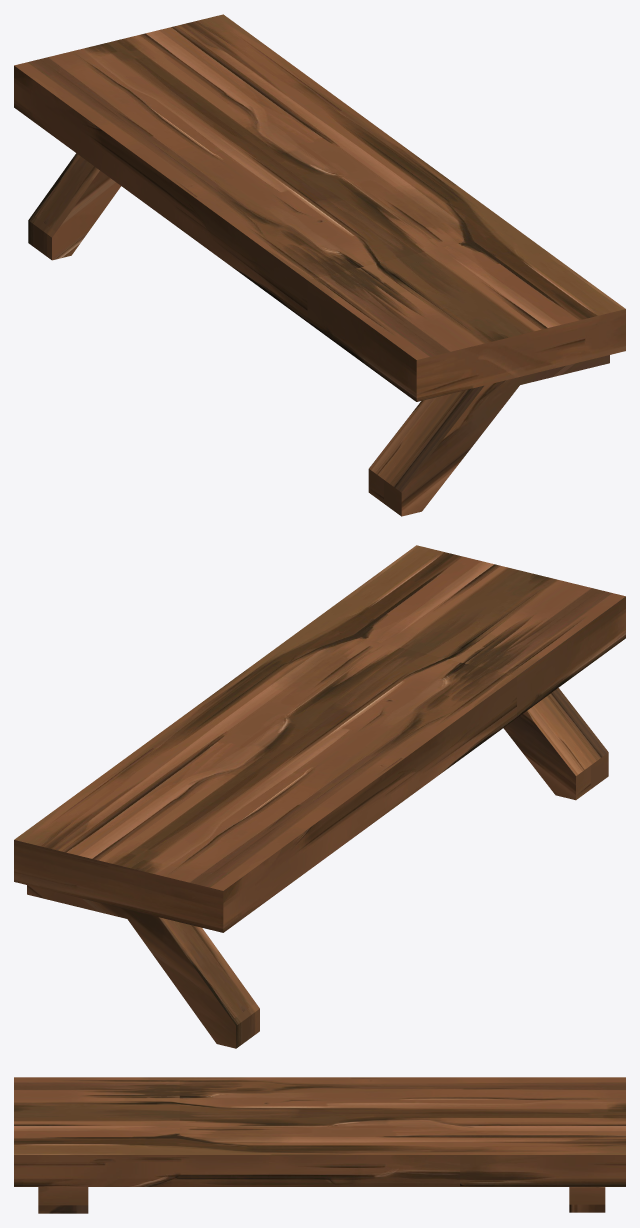
File: shelf-wall.fbx
The picture shows the model from 3 angles, top to bottom: view 1: azimuth 30°, elevation 25°; view 2: azimuth 150°, elevation 25°; view 3: azimuth 270°, elevation 25°; orthographic projection. The views are drawn at different scales.
Parts seen in each view (by area): view 1: wall-shelf; view 2: wall-shelf; view 3: wall-shelf.
Part boxes in pixels (x1,y1,x2,y2): wall-shelf: (14,14,625,516); wall-shelf: (14,545,625,1048); wall-shelf: (14,1077,625,1213).
Bounding box in the file's own units: 70.19 × 53.83 × 233.
